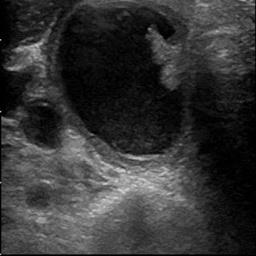mass: (50, 10, 189, 155)
